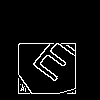E: (30, 26, 86, 83)
